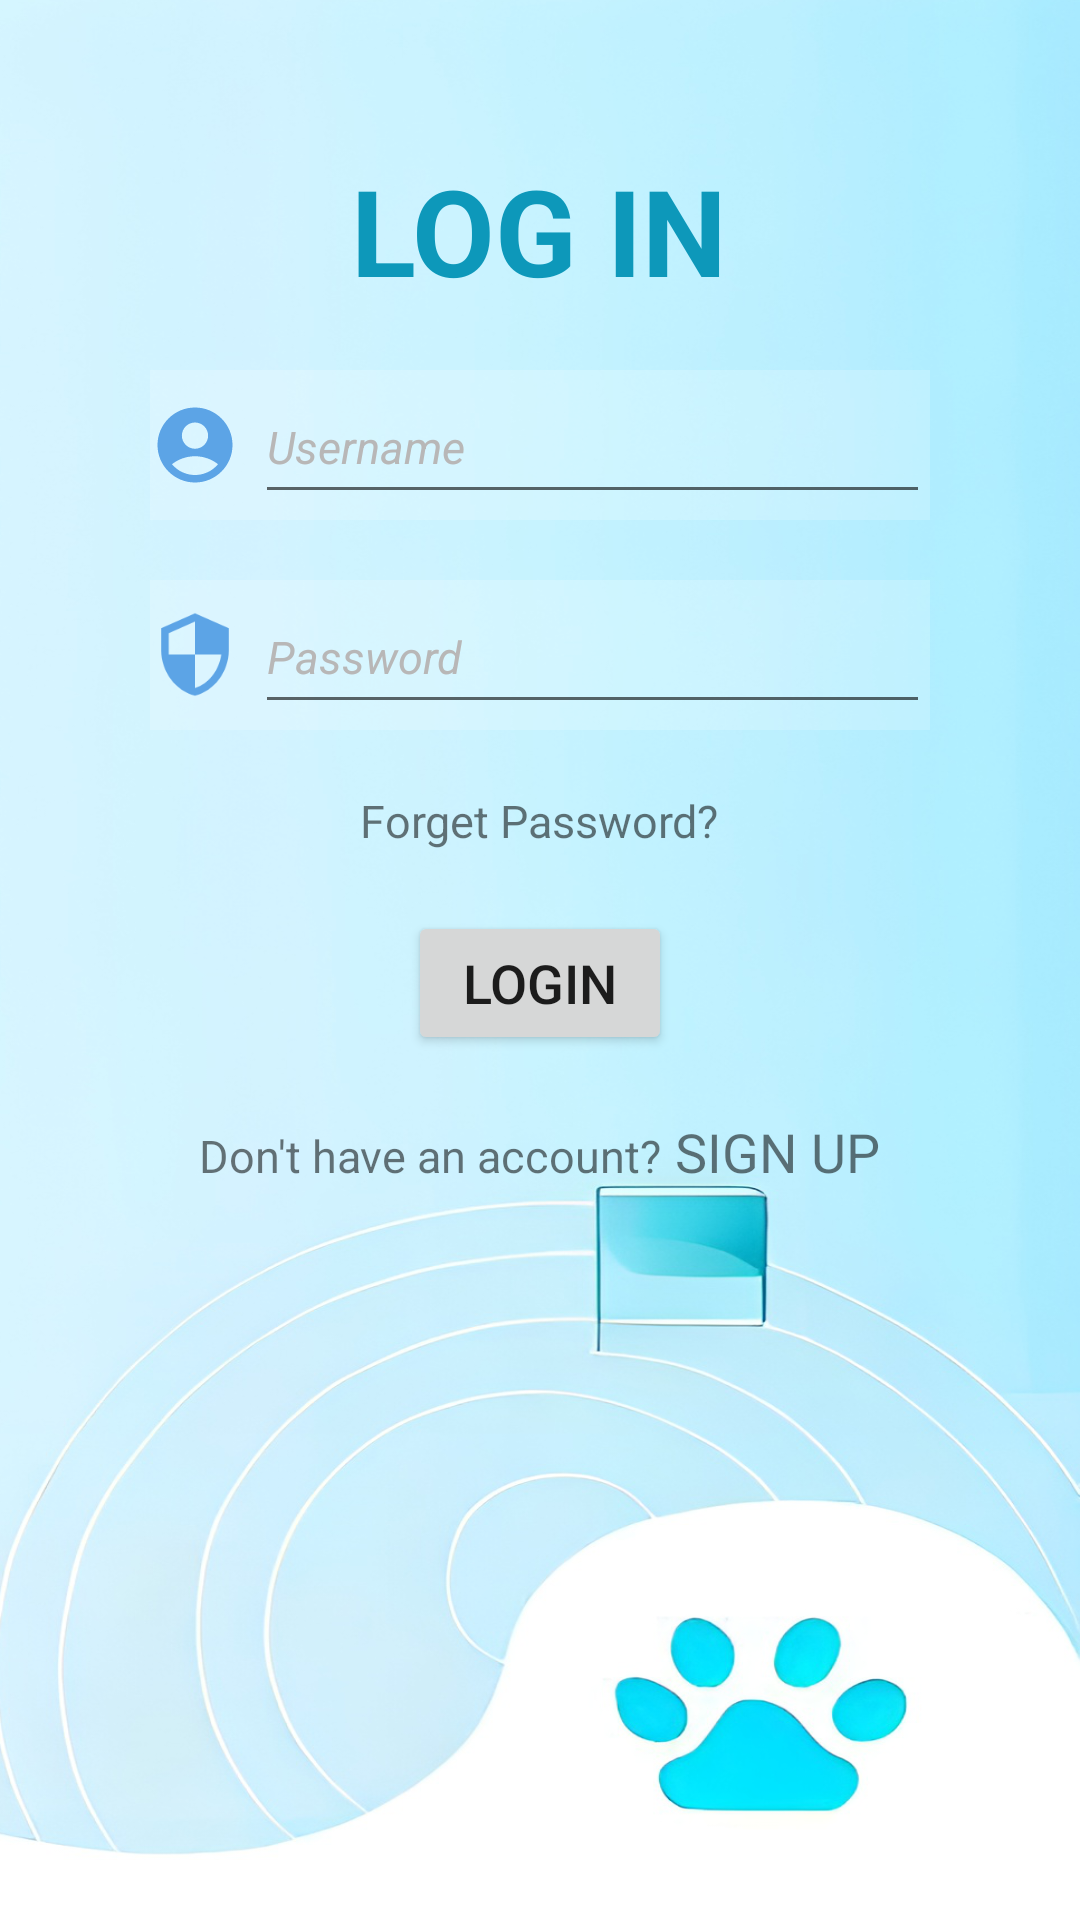

Where icons sit on this 1080x1920 app screen, as {"left": x1, "top": y1, "right": x2, "bottom": y2}:
account circle: {"left": 157, "top": 407, "right": 233, "bottom": 483}
security: {"left": 161, "top": 613, "right": 229, "bottom": 696}
